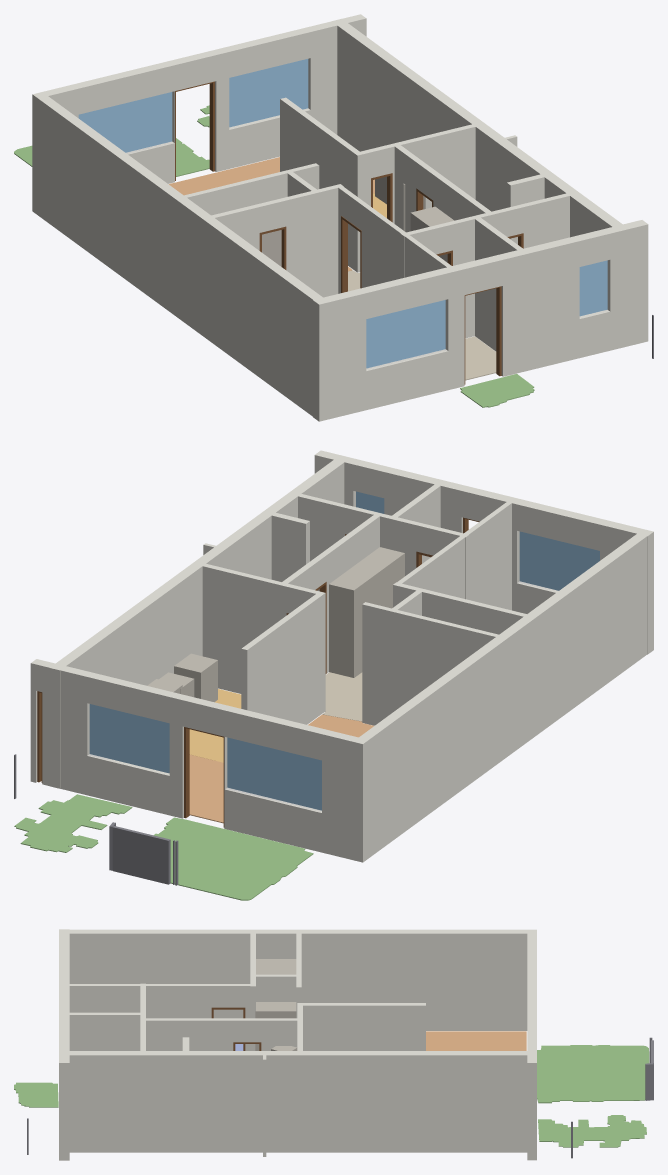
The picture shows the model from 3 angles, top to bottom: view 1: azimuth 30°, elevation 25°; view 2: azimuth 150°, elevation 25°; view 3: azimuth 270°, elevation 25°; orthographic projection. The views are drawn at different scales.
Parts seen in each view (by area): view 1: walls, window_0, window_4, window_3, floor_0_Living_Room, floor_10_Outdoor, window_5, floor_6_Entry, floor_8_Outdoor, door_1, furniture_2_closet, door_2 (+1 smaller); view 2: walls, floor_8_Outdoor, furniture_2_closet, window_3, window_4, floor_9_Outdoor, railings, window_0, floor_0_Living_Room, floor_2_Entry, furniture_5_appliance, floor_1_Kitchen (+1 smaller); view 3: walls, floor_8_Outdoor, floor_9_Outdoor, floor_0_Living_Room, furniture_0_closet, floor_10_Outdoor, railings.
Boxes of the visible parts, <box> form: walls: <box>32,14,648,421</box>; window_0: <box>366,300,445,368</box>; window_4: <box>229,59,308,127</box>; window_3: <box>78,92,172,152</box>; floor_0_Living_Room: <box>169,157,374,271</box>; floor_10_Outdoor: <box>460,374,534,407</box>; window_5: <box>579,260,607,316</box>; floor_6_Entry: <box>465,336,496,380</box>; floor_8_Outdoor: <box>14,138,209,176</box>; door_1: <box>464,286,501,384</box>; furniture_2_closet: <box>410,206,453,262</box>; door_2: <box>175,81,214,180</box>; walls: <box>30,450,653,862</box>; floor_8_Outdoor: <box>154,817,313,900</box>; furniture_2_closet: <box>329,547,404,677</box>; window_3: <box>227,737,321,810</box>; window_4: <box>89,704,169,773</box>; floor_9_Outdoor: <box>14,794,132,852</box>; railings: <box>14,754,178,885</box>; window_0: <box>519,531,599,590</box>; floor_0_Living_Room: <box>189,714,373,823</box>; floor_2_Entry: <box>322,672,362,721</box>; furniture_5_appliance: <box>174,653,217,702</box>; floor_1_Kitchen: <box>189,689,241,762</box>; walls: <box>59,929,536,1160</box>; floor_8_Outdoor: <box>537,1045,649,1103</box>; floor_9_Outdoor: <box>538,1115,646,1147</box>; floor_0_Living_Room: <box>426,1031,526,1050</box>; furniture_0_closet: <box>255,959,296,1050</box>; floor_10_Outdoor: <box>14,1082,58,1107</box>; railings: <box>27,1037,653,1158</box>.
Size of the model in its own units: 7.95 by 2.72 by 16.08.
